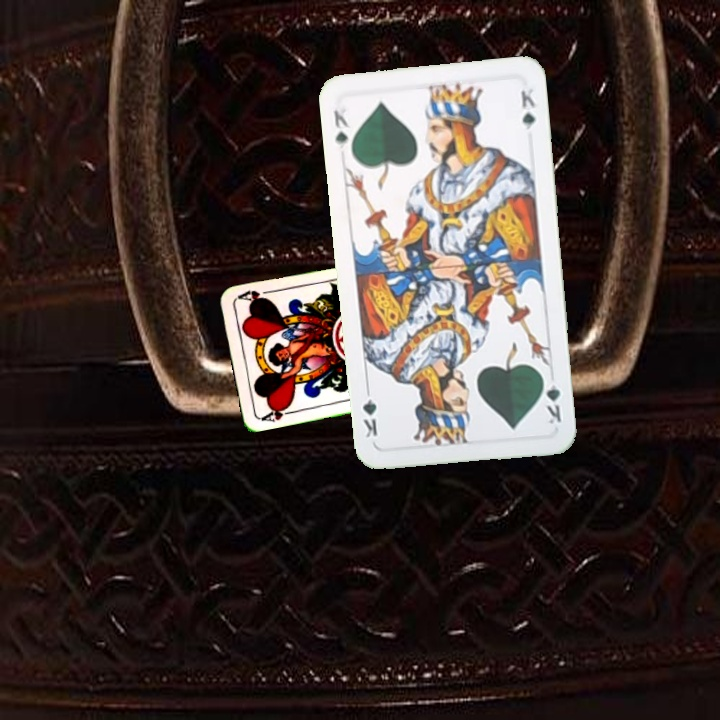GK: (538, 370, 564, 427), (330, 106, 352, 151)
HA: (257, 401, 297, 424)
